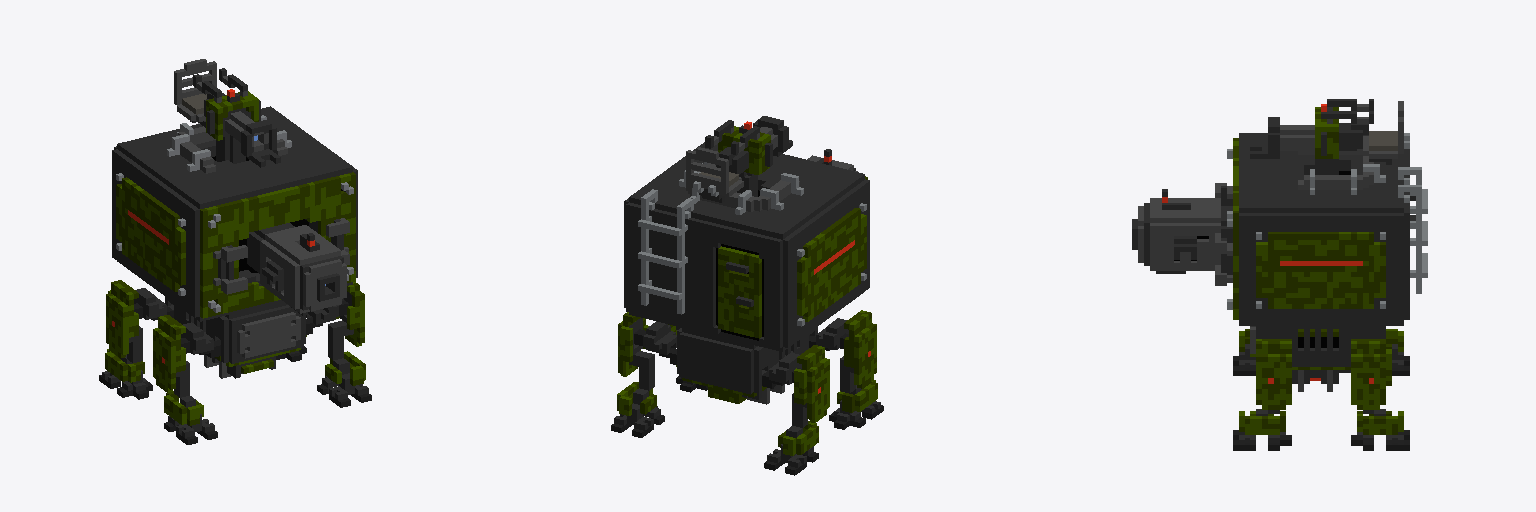
3 renders of one model, left to right at view 1: azimuth 30°, elevation 25°; view 2: azimuth 150°, elevation 25°; view 3: azimuth 270°, elevation 25°, orthographic.
Visible parts, largest first — view 1: object 1; view 2: object 1; view 3: object 1.
Boxes of the visible parts, box(x1,y1,x2,y2) form: object 1: box(99, 59, 371, 444); object 1: box(611, 116, 883, 475); object 1: box(1132, 99, 1427, 450).
Size of the model in its own units: 3.8 by 5.6 by 5.
Materials: 1 (1 with a texture image).